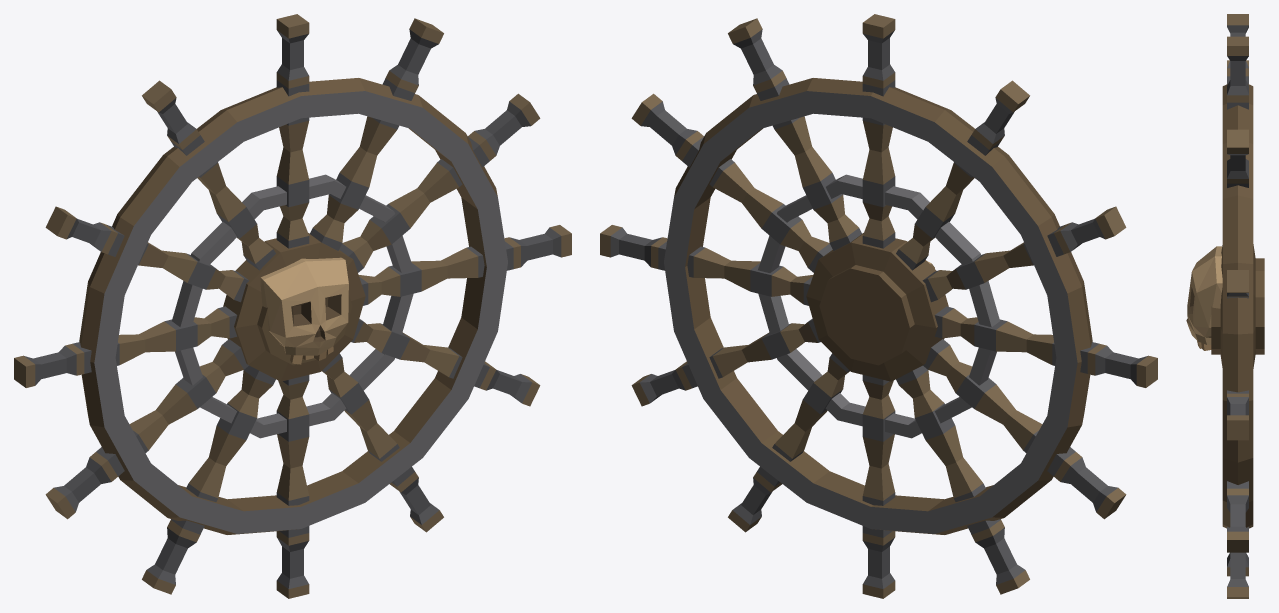
Rendered from SM_Prop_ShipWheel_03.glb.
3 renders of one model, left to right at view 1: azimuth 30°, elevation 25°; view 2: azimuth 150°, elevation 25°; view 3: azimuth 270°, elevation 25°, orthographic. The views are drawn at different scales.
Parts seen in each view (by area): view 1: SM_Prop_ShipWheel_03_part00; view 2: SM_Prop_ShipWheel_03_part00; view 3: SM_Prop_ShipWheel_03_part00.
Part boxes in pixels (x1=…): SM_Prop_ShipWheel_03_part00: x1=14, y1=14, x2=571, y2=598; SM_Prop_ShipWheel_03_part00: x1=600, y1=14, x2=1157, y2=598; SM_Prop_ShipWheel_03_part00: x1=1186, y1=14, x2=1264, y2=598.
Size of the model in its own units: 1.37 by 1.37 by 0.1835.
Materials: 1 (1 with a texture image).
